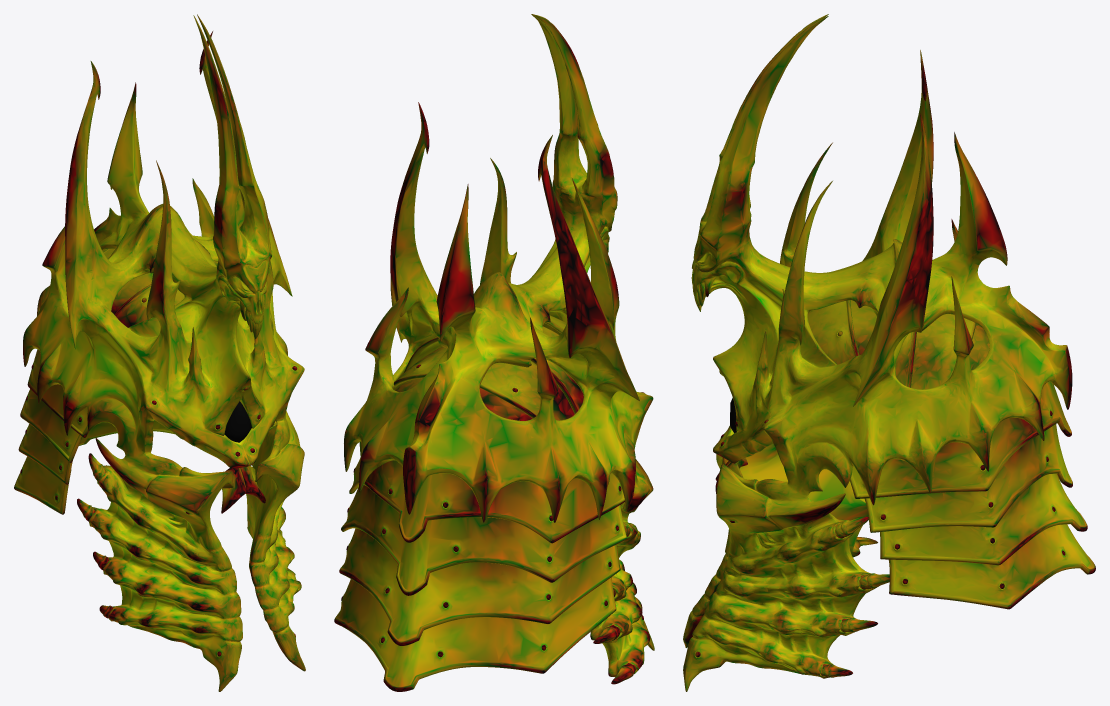
File: shlem.glb
3 renders of one model, left to right at view 1: azimuth 30°, elevation 25°; view 2: azimuth 150°, elevation 25°; view 3: azimuth 270°, elevation 25°, orthographic. The views are drawn at different scales.
Size of the model in its own units: 0.8593 by 2.27 by 1.3.
